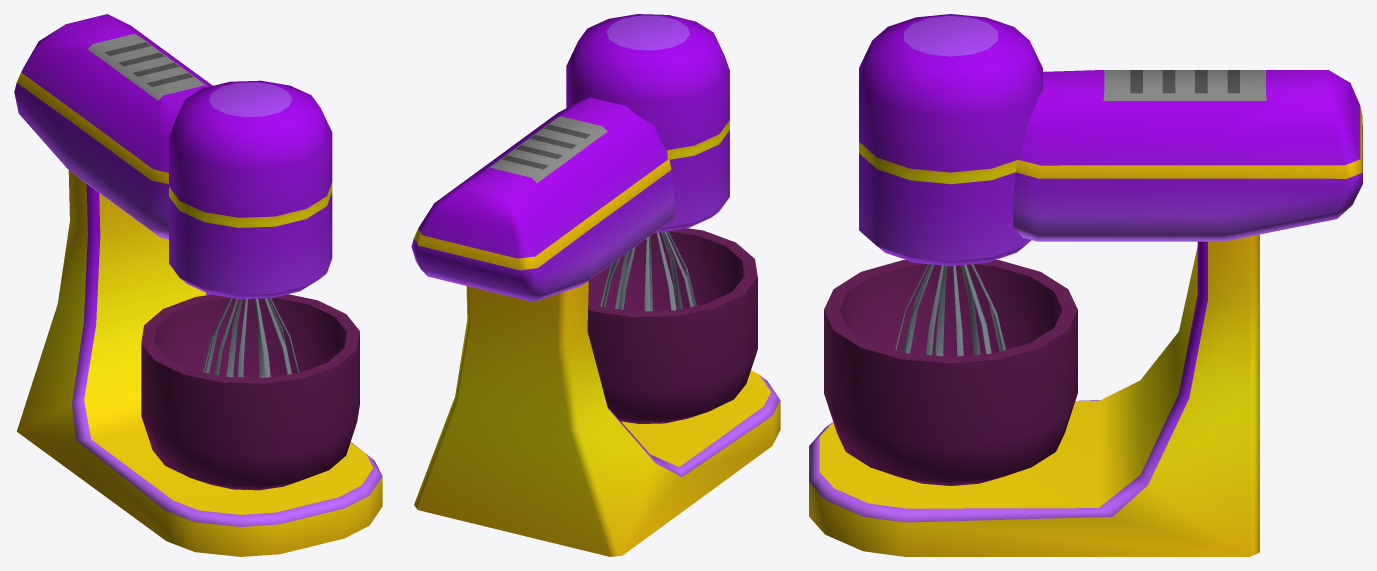
Rendered from Station Double Cake.fbx.
3 views of the same model, side by side, from view 1: azimuth 30°, elevation 25°; view 2: azimuth 150°, elevation 25°; view 3: azimuth 270°, elevation 25° (orthographic). The views are drawn at different scales.
Parts seen in each view (by area): view 1: Station_Double_Cake_Machine; view 2: Station_Double_Cake_Machine; view 3: Station_Double_Cake_Machine.
Boxes of the visible parts, bbox=[...] form: Station_Double_Cake_Machine: bbox=[14, 14, 382, 556]; Station_Double_Cake_Machine: bbox=[411, 14, 780, 556]; Station_Double_Cake_Machine: bbox=[809, 14, 1362, 556].
Size of the model in its own units: 101 by 186 by 202.
